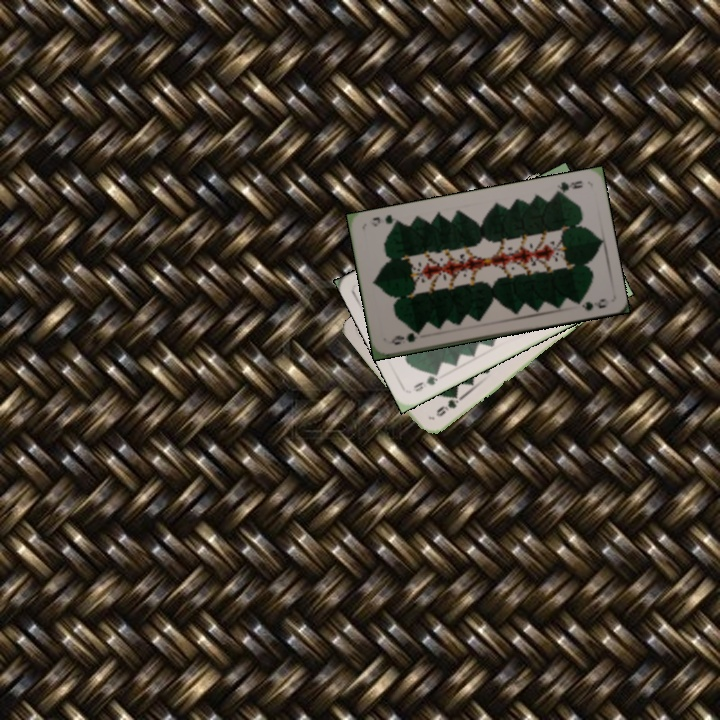G9: (432, 391, 464, 419), (409, 367, 442, 394), (387, 326, 424, 347), (550, 177, 585, 198)
